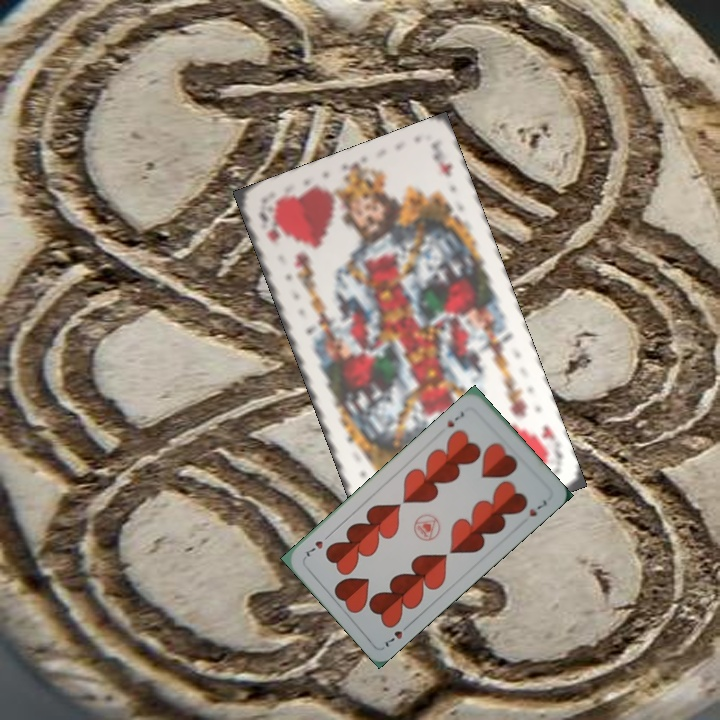H7: (379, 619, 413, 650), (443, 407, 467, 430)
HK: (530, 422, 566, 472), (255, 205, 284, 246)
